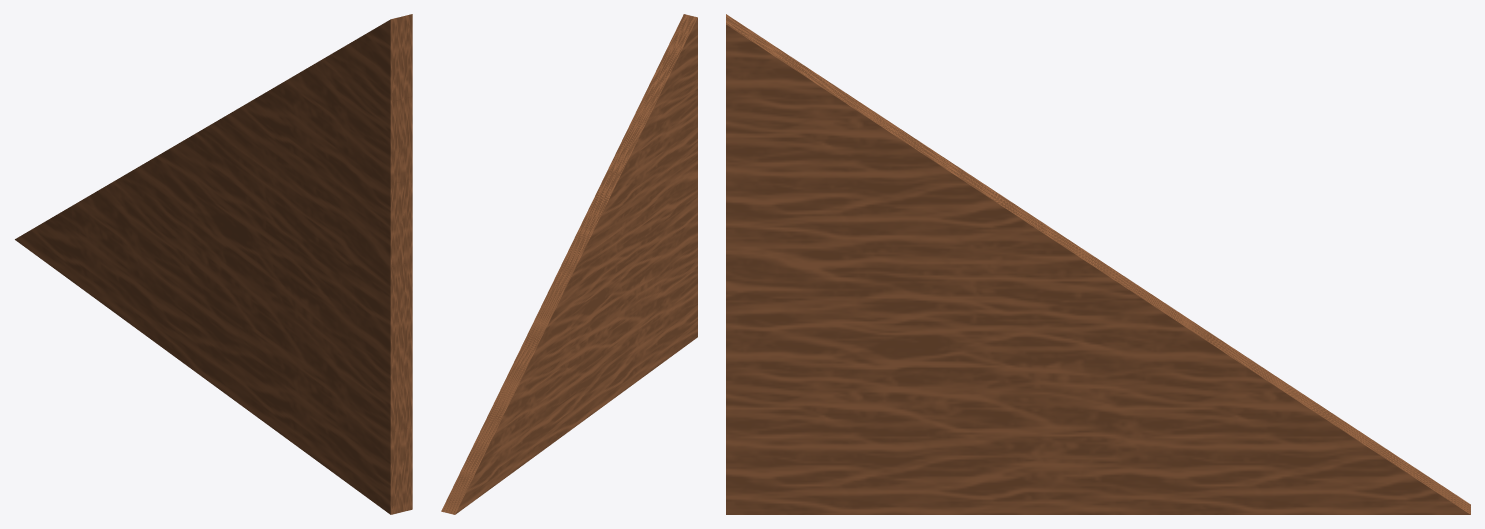
Rendered from BasicWall_Triangle_R.fbx.
3 renders of one model, left to right at view 1: azimuth 30°, elevation 25°; view 2: azimuth 150°, elevation 25°; view 3: azimuth 270°, elevation 25°, orthographic. The views are drawn at different scales.
Visible parts, largest first — view 1: BasicWall_Triangle_R; view 2: BasicWall_Triangle_R; view 3: BasicWall_Triangle_R.
Part boxes in pixels (x1=…): BasicWall_Triangle_R: x1=15, y1=14, x2=412, y2=514; BasicWall_Triangle_R: x1=441, y1=14, x2=697, y2=514; BasicWall_Triangle_R: x1=726, y1=14, x2=1470, y2=514.
Size of the model in its own units: 11.01 by 240 by 330.
